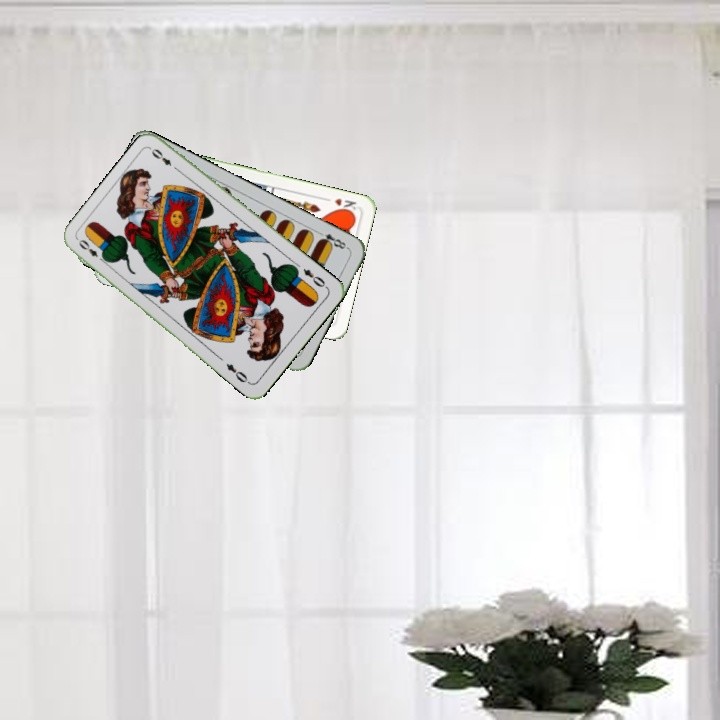E8: (313, 227, 351, 252)
EO: (74, 235, 109, 266), (299, 264, 330, 291)
HK: (320, 193, 359, 216)
